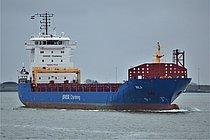Ship: (14, 6, 196, 117)
